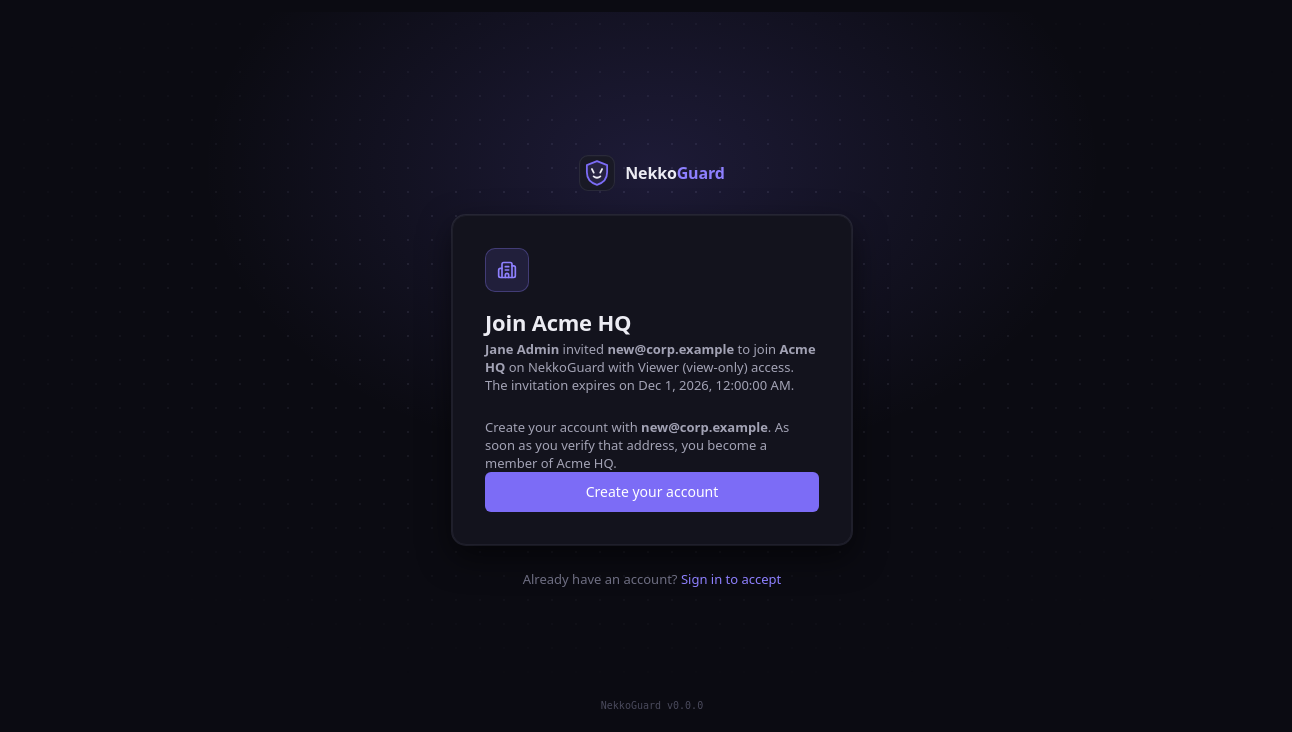
Test: InvitationPage › signed out: offers to create the account with the invited address, or sign in
Expected: the heading "Join Acme HQ" is shown, [485, 307, 631, 337]
Expected: the text "Jane Admin" is shown, [485, 340, 559, 358]
What coordinates should you click on to do the following:
click the link "Create your account"
I would click on:
 (652, 492)
Its box is [485, 472, 819, 512].
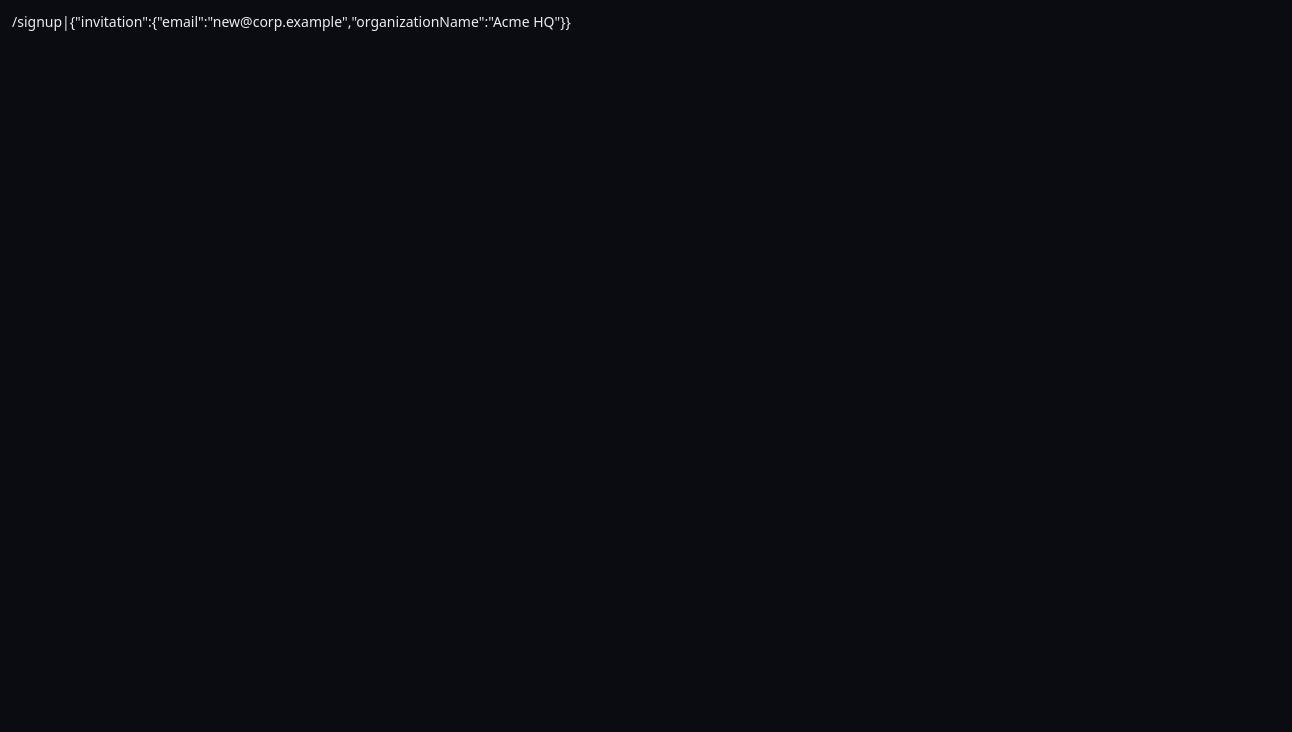
Result: the text with test id "where" shows "/signup|" at [12, 12, 571, 31]
Result: the text with test id "where" shows "new@corp.example" at [12, 12, 571, 31]
